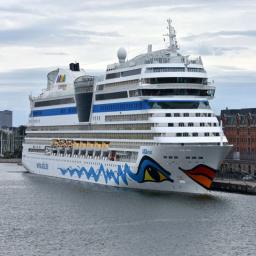cruises: (20, 19, 236, 201)
